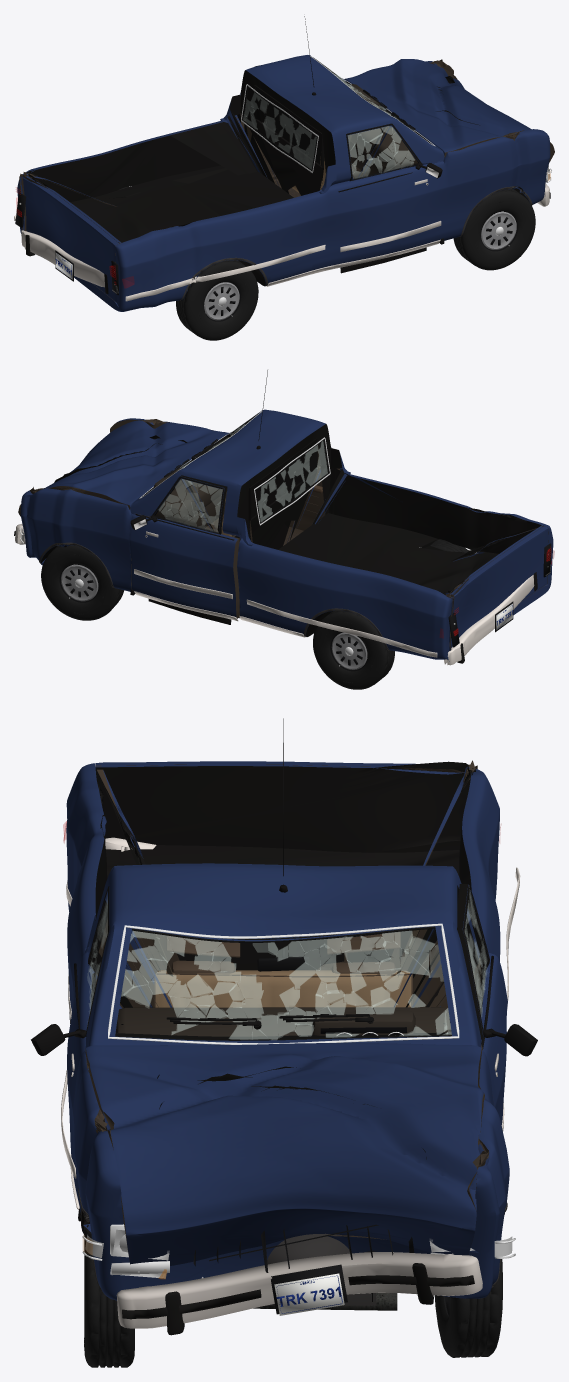
File: pickup87_front_d1_lod1.glb
The picture shows the model from 3 angles, top to bottom: view 1: azimuth 30°, elevation 25°; view 2: azimuth 150°, elevation 25°; view 3: azimuth 270°, elevation 25°; orthographic projection. The views are drawn at different scales.
Parts seen in each view (by area): view 1: Body, Hood, Tailgate, Wheel_FR_mesh, Wheel_RR_mesh, Door_FR, Glass, Interior, Trim, Trim_FR, Glass_FR, Bumper_R (+1 smaller); view 2: Body, Door_FL, Hood, Tailgate, Wheel_RL_mesh, Wheel_FL_mesh, Glass, Interior, Trim, Trim_FL, Glass_FL, Bumper_R (+2 smaller); view 3: Body, Hood, Interior, Glass, Bumper_F, Ends, Door_FL, Wheel_FL_mesh, Wheel_FR_mesh, Trim, Trim_FR, Engine (+4 smaller).
Boxes of the visible parts, left/top/right/bottom form: Body: left=17, top=55, right=550, bottom=311; Hood: left=344, top=59, right=554, bottom=162; Tailgate: left=21, top=175, right=119, bottom=302; Wheel_FR_mesh: left=453, top=188, right=535, bottom=270; Wheel_RR_mesh: left=176, top=260, right=258, bottom=340; Door_FR: left=331, top=123, right=442, bottom=263; Glass: left=241, top=56, right=435, bottom=172; Interior: left=292, top=84, right=415, bottom=192; Trim: left=14, top=16, right=532, bottom=301; Trim_FR: left=333, top=123, right=442, bottom=273; Glass_FR: left=348, top=126, right=418, bottom=181; Bumper_R: left=21, top=230, right=108, bottom=293; Body: left=20, top=409, right=553, bottom=661; Door_FL: left=129, top=475, right=239, bottom=618; Hood: left=18, top=420, right=228, bottom=516; Tailgate: left=450, top=526, right=548, bottom=649; Wheel_RL_mesh: left=313, top=610, right=394, bottom=689; Wheel_FL_mesh: left=41, top=545, right=124, bottom=620; Glass: left=139, top=411, right=330, bottom=525; Interior: left=153, top=468, right=231, bottom=536; Trim: left=39, top=370, right=478, bottom=657; Trim_FL: left=130, top=476, right=238, bottom=624; Glass_FL: left=154, top=476, right=224, bottom=534; Bumper_R: left=444, top=572, right=537, bottom=665; Body: left=66, top=760, right=509, bottom=1300; Hood: left=85, top=1043, right=484, bottom=1265; Interior: left=116, top=932, right=451, bottom=1036; Glass: left=108, top=923, right=459, bottom=1044; Bumper_F: left=116, top=1252, right=482, bottom=1335; Ends: left=82, top=1224, right=515, bottom=1315; Door_FL: left=457, top=884, right=507, bottom=1124; Wheel_FL_mesh: left=434, top=1259, right=502, bottom=1357; Wheel_FR_mesh: left=84, top=1217, right=134, bottom=1367; Trim: left=66, top=718, right=520, bottom=1288; Trim_FR: left=31, top=886, right=109, bottom=1210; Engine: left=265, top=1233, right=376, bottom=1305.
Bounding box in the file's own units: 4.73 × 2.56 × 2.34.
Materials: 34 (5 with a texture image).
